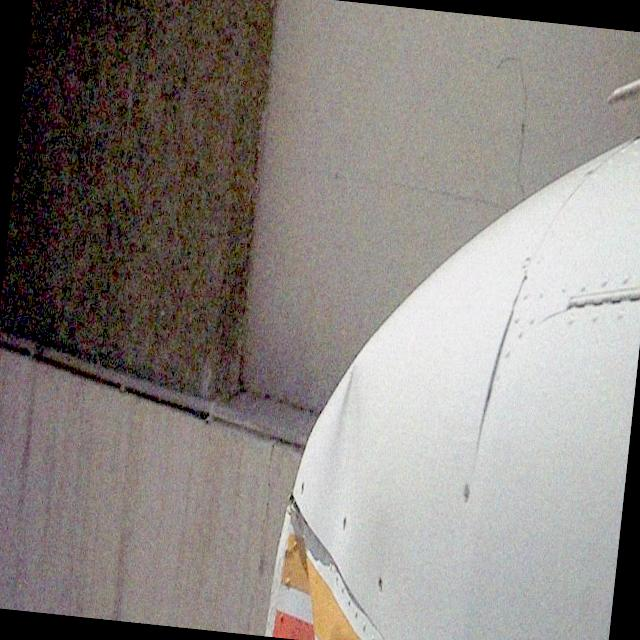dent: (264, 359, 374, 640)
